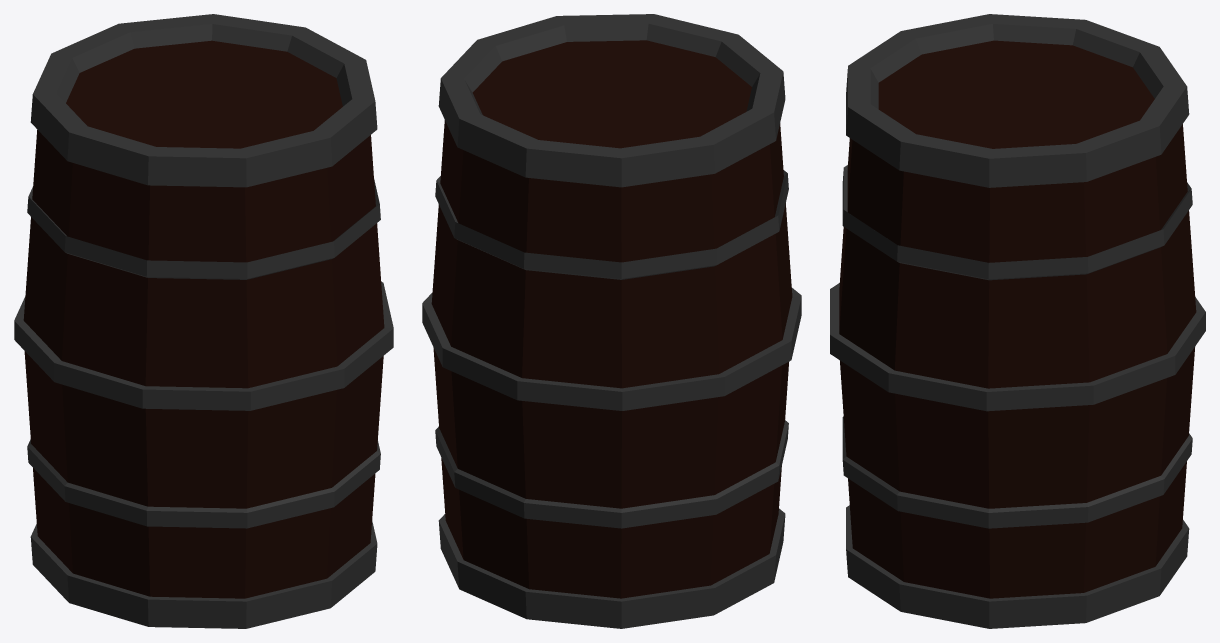
Rendered from barrel.fbx.
3 views of the same model, side by side, from view 1: azimuth 30°, elevation 25°; view 2: azimuth 150°, elevation 25°; view 3: azimuth 270°, elevation 25° (orthographic).
Parts seen in each view (by area): view 1: Cylinder; view 2: Cylinder; view 3: Cylinder.
Boxes of the visible parts, x1,y1,x2,y2 form: Cylinder: (14,14,393,628); Cylinder: (422,14,801,628); Cylinder: (830,14,1205,628).
Size of the model in its own units: 84.05 by 115 by 83.2.
